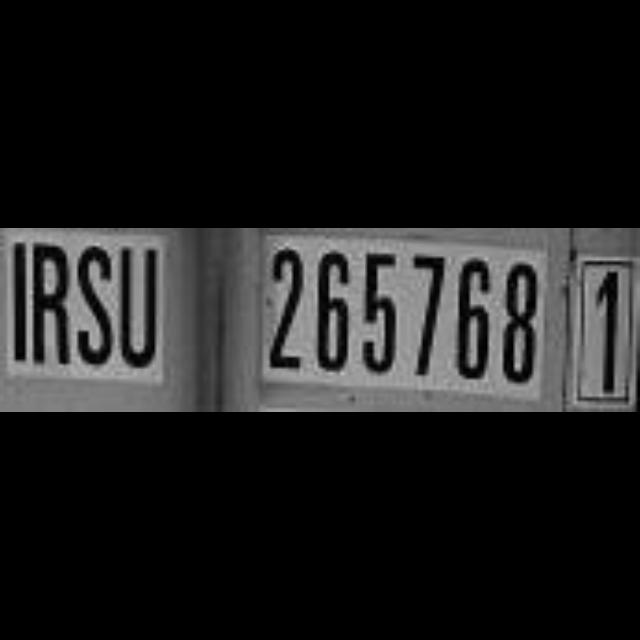1: (589, 264, 625, 402)
2: (268, 243, 308, 377)
5: (360, 247, 400, 383)
6: (452, 253, 496, 387), (313, 246, 351, 380)
7: (407, 248, 445, 384)
8: (498, 255, 540, 389)
i: (14, 238, 28, 368)
r: (29, 238, 75, 376)
s: (73, 240, 115, 374)
u: (118, 239, 160, 377)
